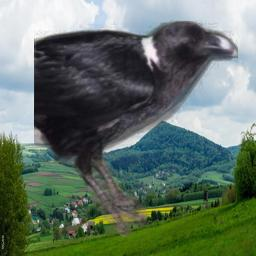Crow: (34, 20, 238, 237)
